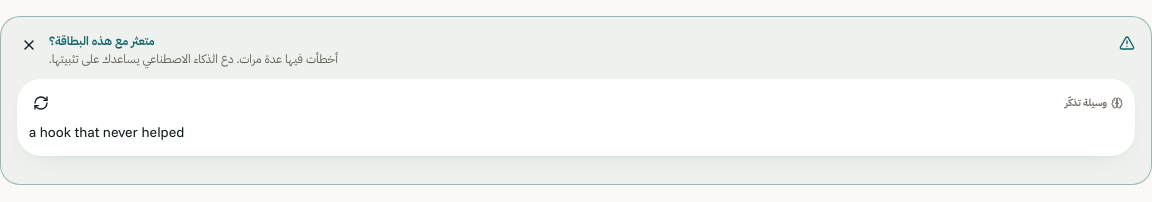
Test: making a memory hook › can be asked for a different one
Click the button named "أعد التوليد" at (41, 103), box x1=29 y1=91 x2=53 y2=115
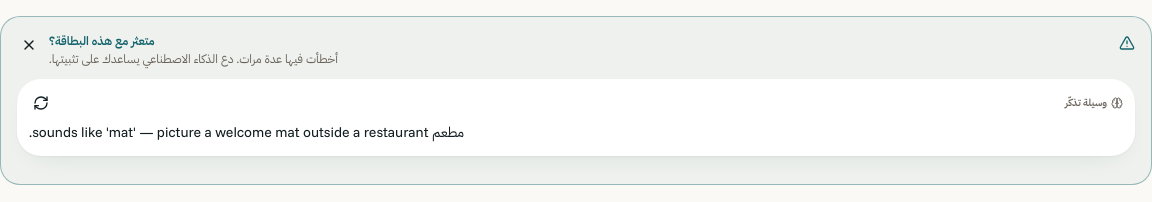
Expected: the text "welcome mat" is shown, x1=29 y1=123 x2=464 y2=141
